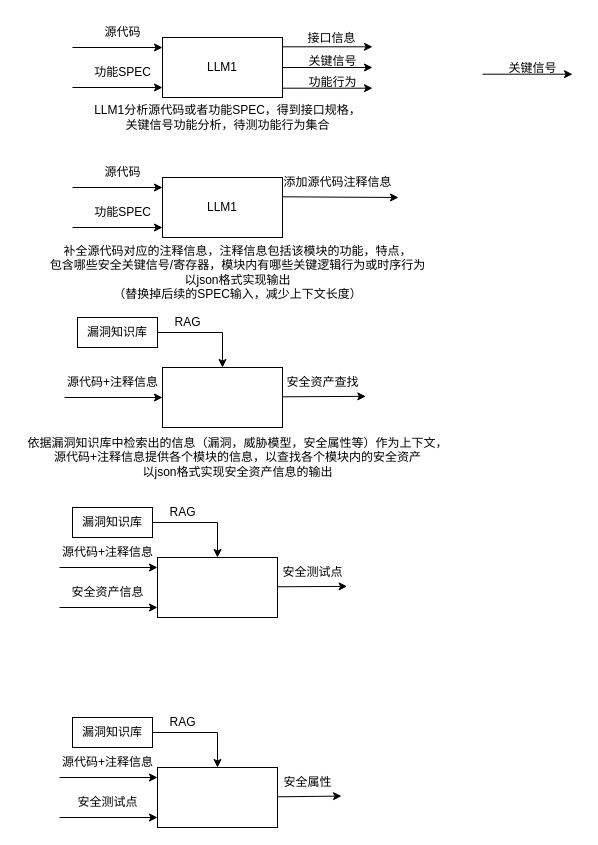
This 598x845 diagram has some shape labels left out. The centre of each missing label's shape, as x and y in pixels:
LLM2: pixel 222 397
LLM3: pixel 217 587
LLM4: pixel 217 797
